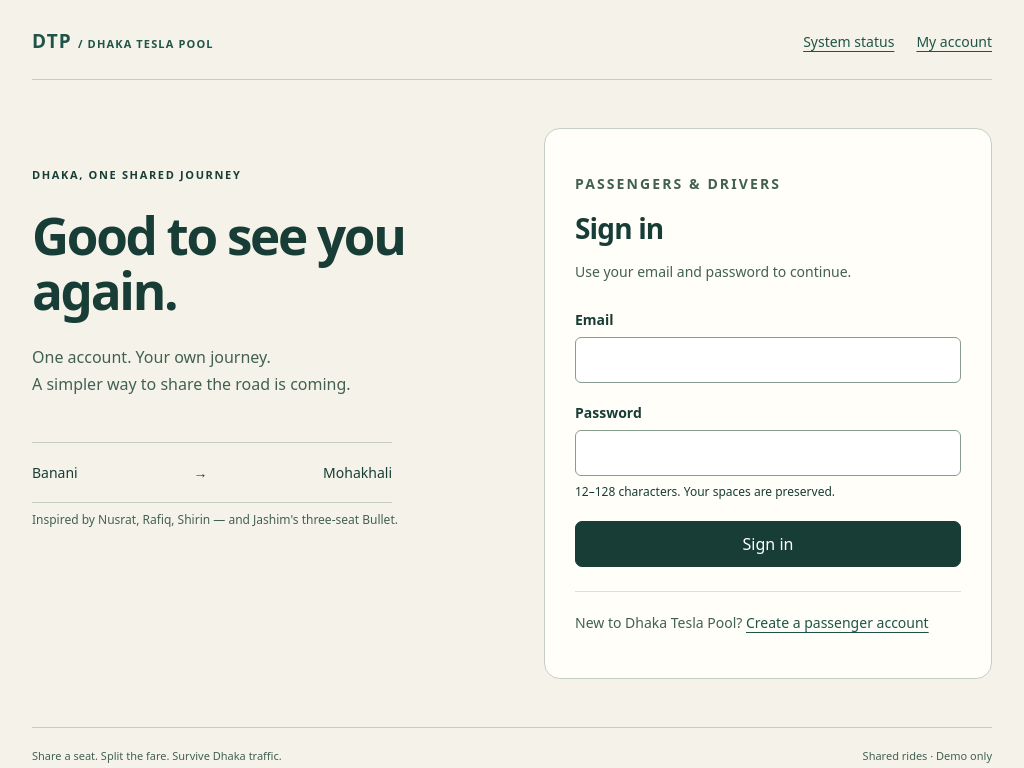
Test: authentication UI › preserves email, clears password, and never replays a failed csrf mutation
Type "nusrat@demo.dhaka.test" into the field labelled "Email" at (768, 360), box [575,337,961,383]
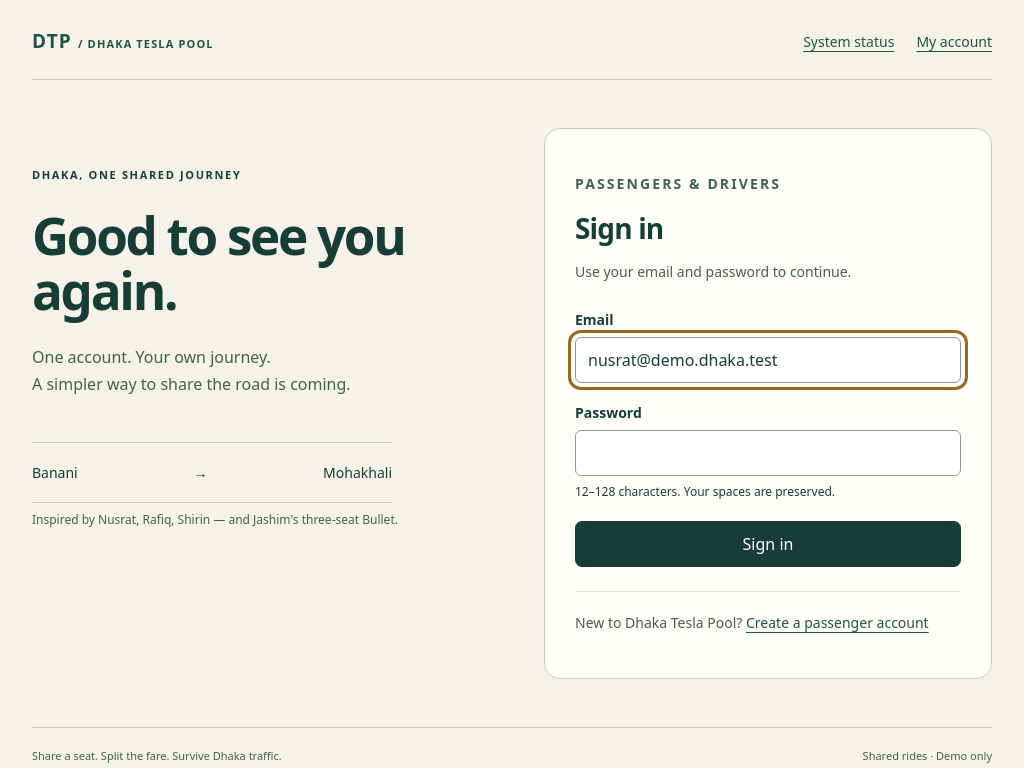
Type "DemoOnly!Dhaka2026" into the password field labelled "Password" at (768, 453), box [575,430,961,476]
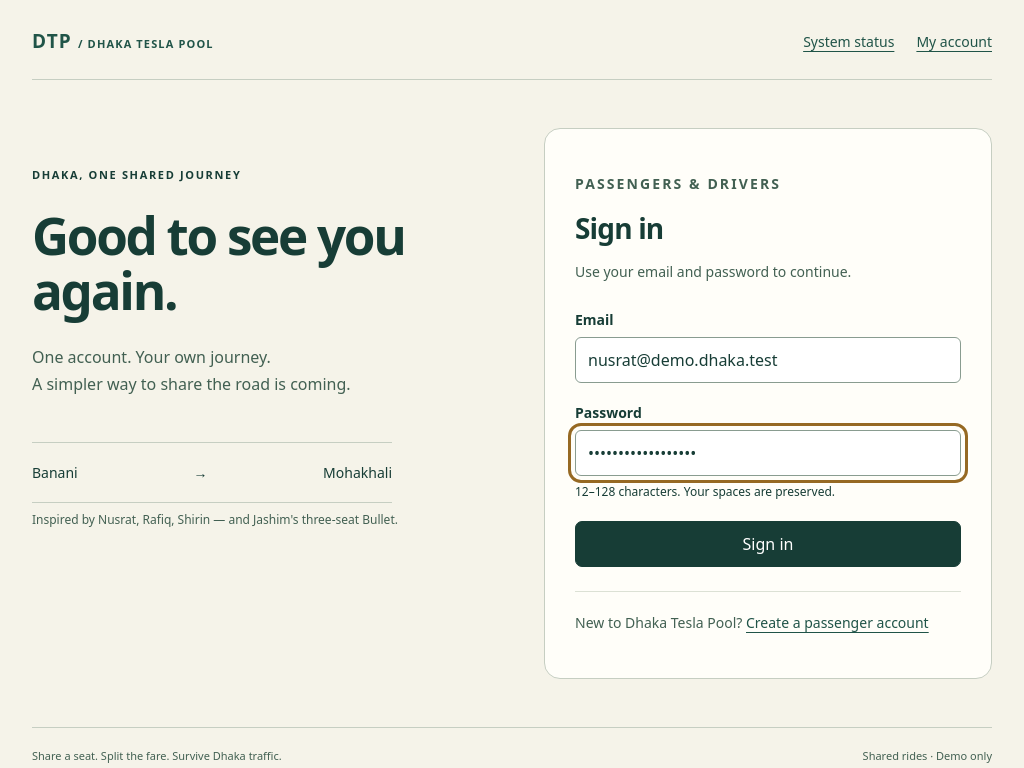
Click the button "Sign in" at (768, 544), box [575,521,961,567]
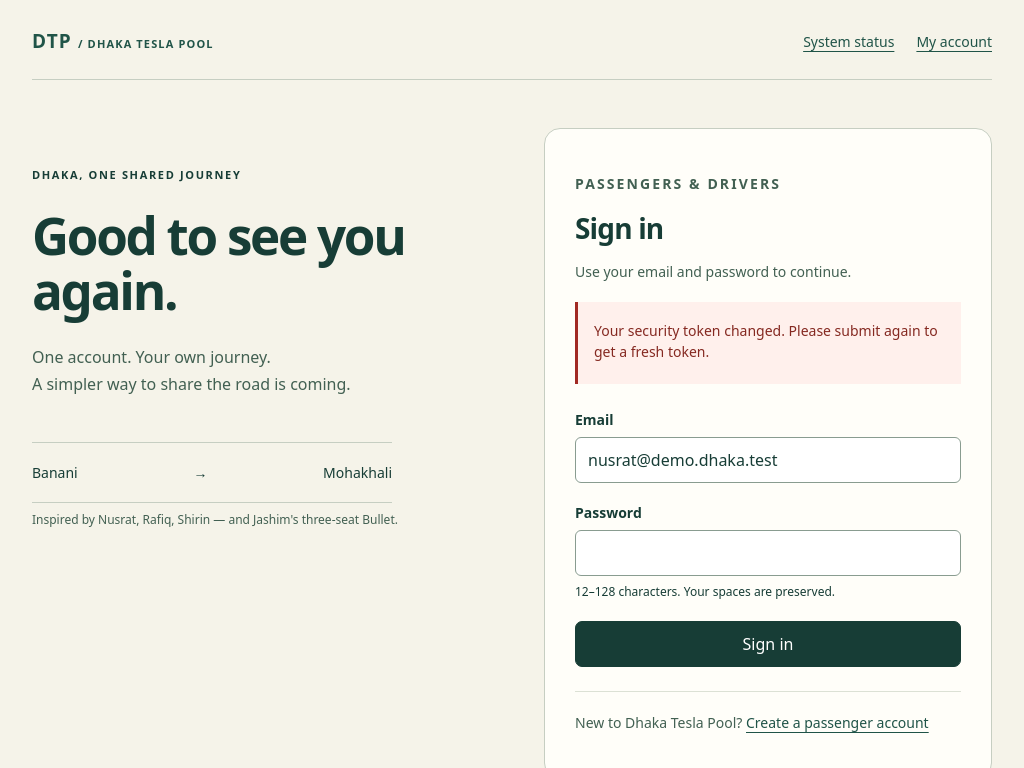
Check: the message "Your security token changed. Please submit again to get a fresh token." is shown, box [575,302,961,384]
Check: the password field labelled "Password" is empty, box [575,530,961,576]
